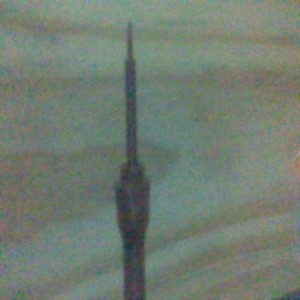solder: (113, 20, 150, 300)
